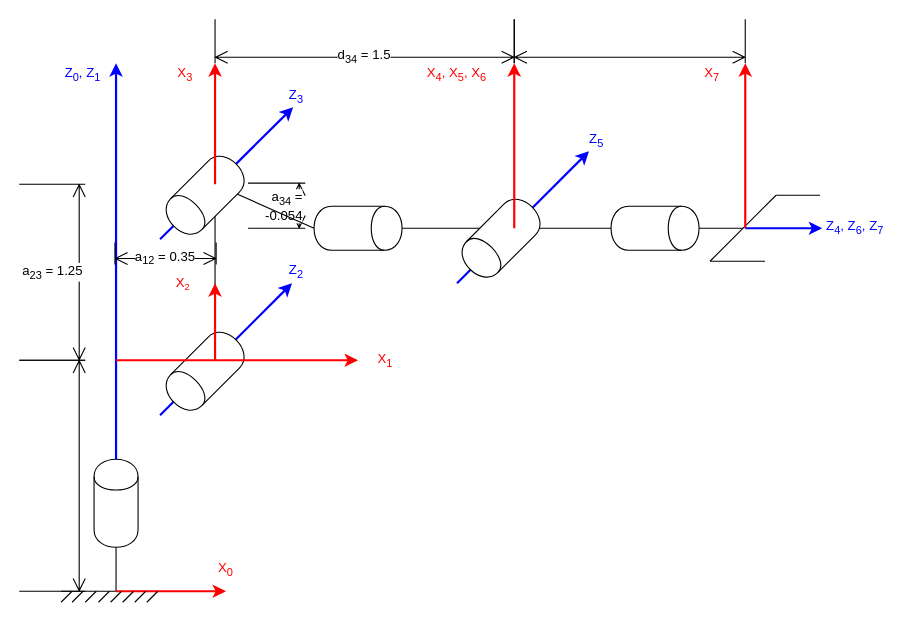
The diagram is 908 pixels wide and 623 high, and some of its shapes have lost their labels. The box of each missing label's shape, as (x1, y1, x2, y2) in pixels:
d 01 = 0.75: (18, 359, 85, 591)
d 67 = 0.303: (513, 18, 745, 63)
